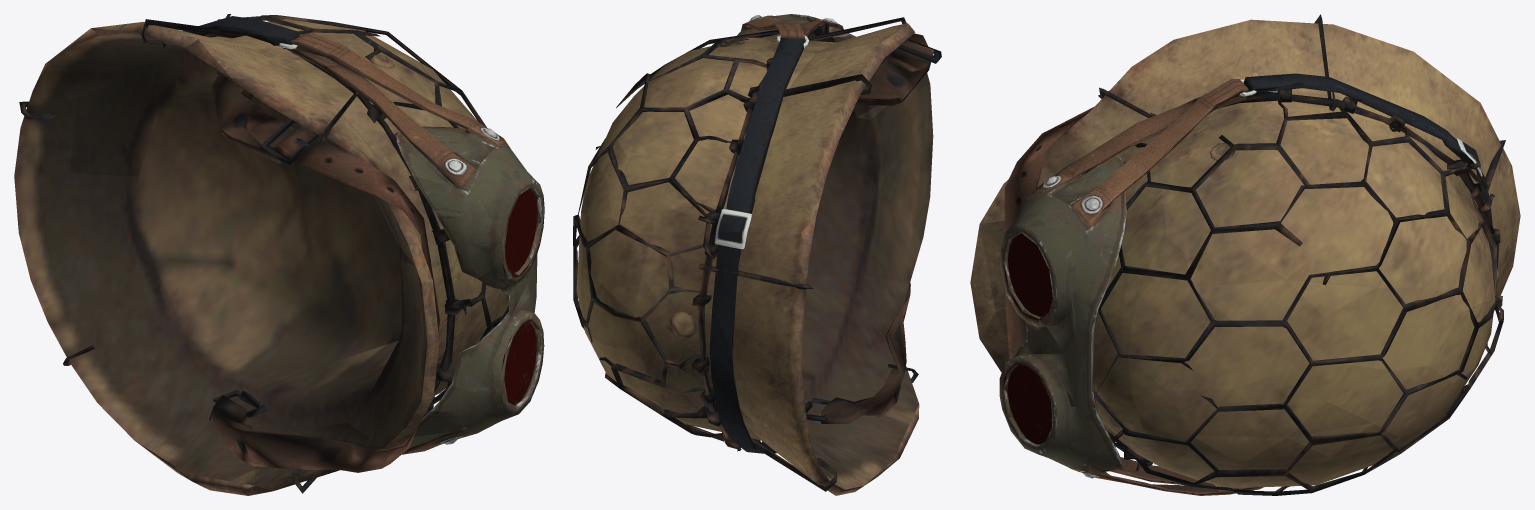
Rendered from M_AntiqueHelmetGoggles.fbx.
3 views of the same model, side by side, from view 1: azimuth 30°, elevation 25°; view 2: azimuth 150°, elevation 25°; view 3: azimuth 270°, elevation 25° (orthographic). The views are drawn at different scales.
Parts seen in each view (by area): view 1: AntiqueHelmet; view 2: AntiqueHelmet; view 3: AntiqueHelmet.
Boxes of the visible parts, x1,y1,x2,y2 form: AntiqueHelmet: [14, 14, 544, 495]; AntiqueHelmet: [573, 14, 941, 495]; AntiqueHelmet: [970, 14, 1520, 495].
Size of the model in its own units: 0.1214 by 0.1529 by 0.1775.
